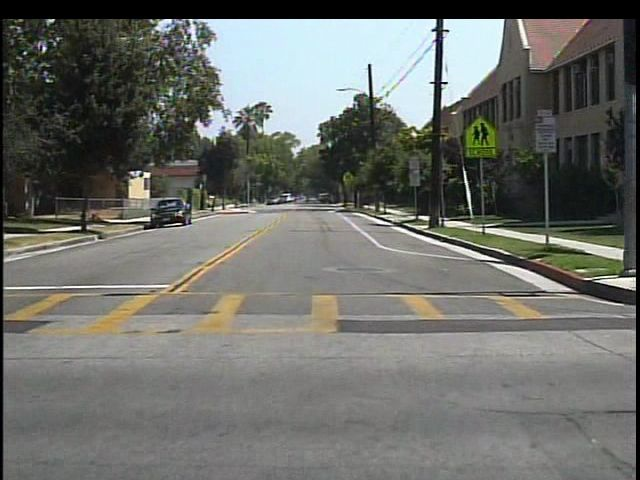person: (301, 192, 316, 209)
